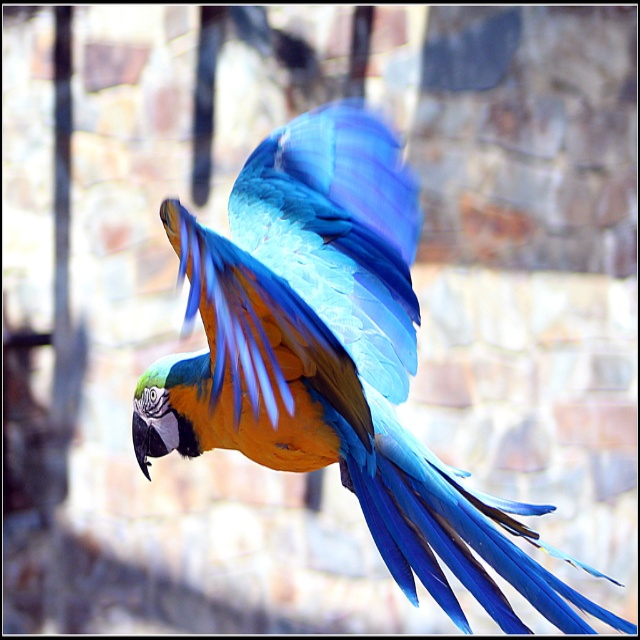Parrot: (129, 92, 633, 636)
